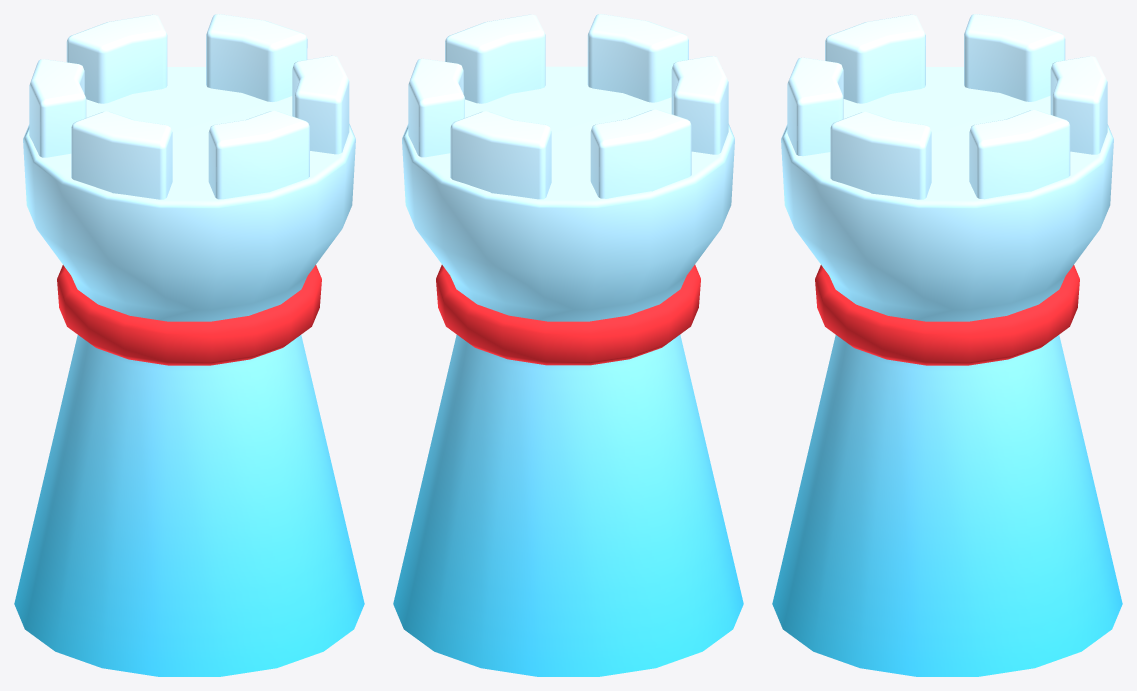
File: tower_002.glb
The picture shows the model from 3 angles, left to right: view 1: azimuth 30°, elevation 25°; view 2: azimuth 150°, elevation 25°; view 3: azimuth 270°, elevation 25°; orthographic projection.
Visible parts, largest first — view 1: tower_002; view 2: tower_002; view 3: tower_002.
Boxes of the visible parts, <box> form: tower_002: <box>14,14,364,676</box>; tower_002: <box>393,14,743,676</box>; tower_002: <box>772,14,1122,676</box>.
Bounding box in the file's own units: 4.77 × 8.03 × 4.84.
1 material, 1 textured.
